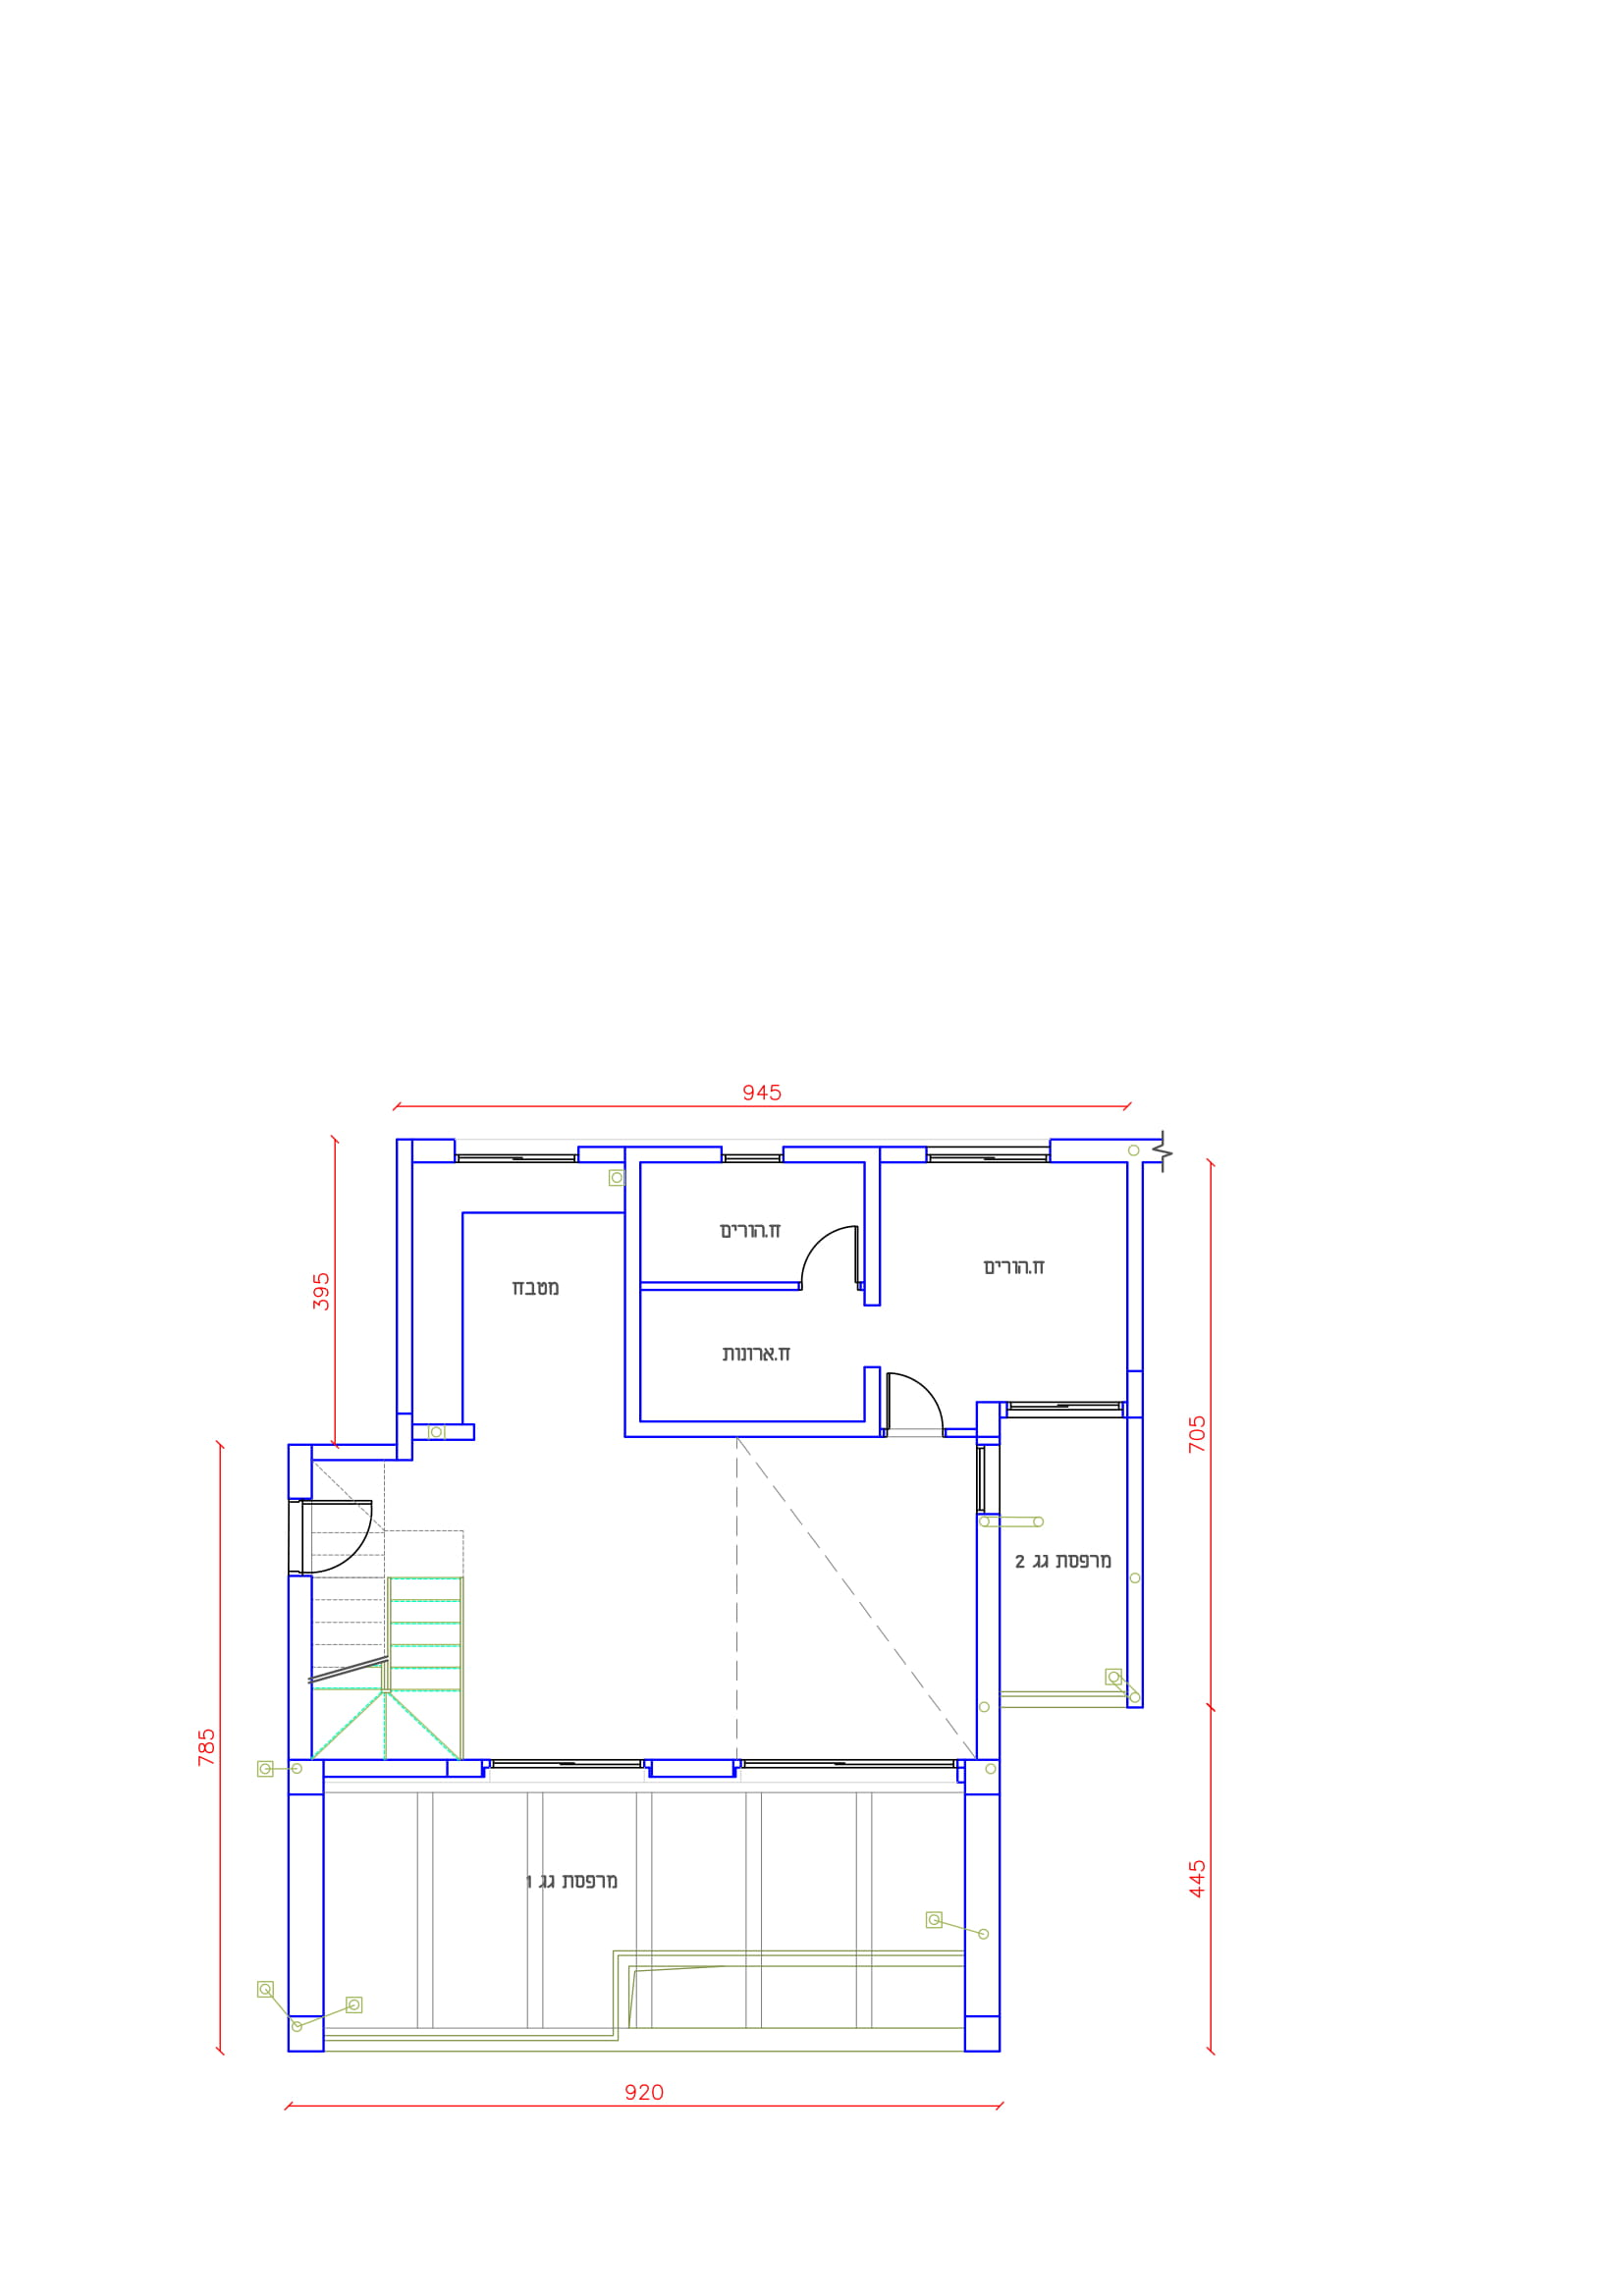door: (314, 1496, 386, 1576), (801, 1220, 864, 1278), (882, 1366, 945, 1422), (882, 1366, 945, 1420)
window: (741, 1754, 956, 1776), (927, 1141, 1050, 1174), (1005, 1394, 1126, 1425), (453, 1146, 580, 1176), (488, 1755, 646, 1776), (718, 1144, 785, 1174), (971, 1445, 994, 1515)
